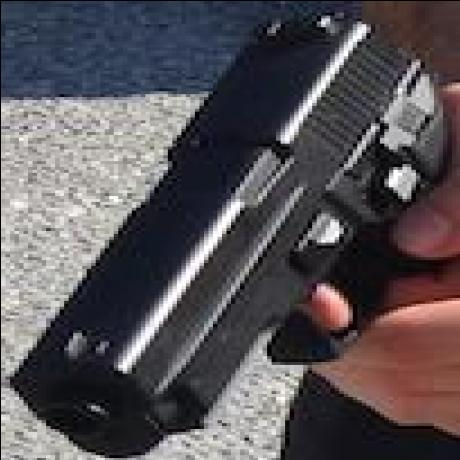weapon: (24, 5, 414, 440)
